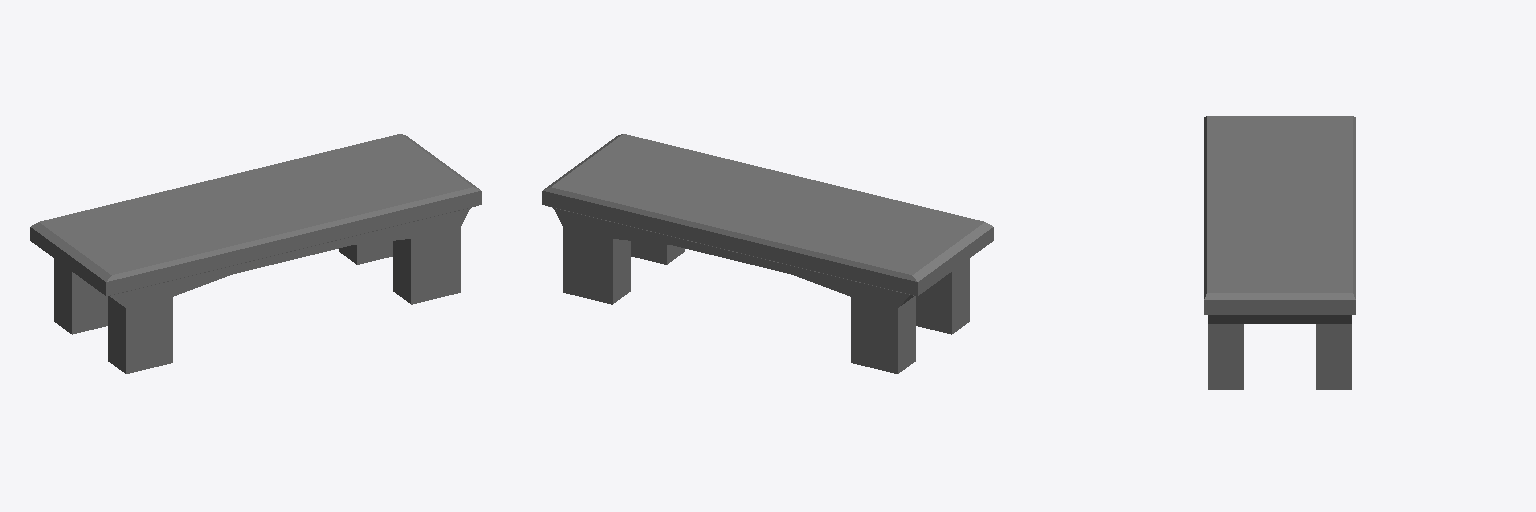
Rendered from bench_moved.obj.
3 views of the same model, side by side, from view 1: azimuth 30°, elevation 25°; view 2: azimuth 150°, elevation 25°; view 3: azimuth 270°, elevation 25° (orthographic).
Visible parts, largest first — view 1: Cube; view 2: Cube; view 3: Cube.
Part boxes in pixels (x1,y1,x2,y2): Cube: (30,134,481,373); Cube: (542,134,993,373); Cube: (1204,116,1355,389).
Bounding box in the file's own units: 0.9653 × 0.2529 × 0.3376.